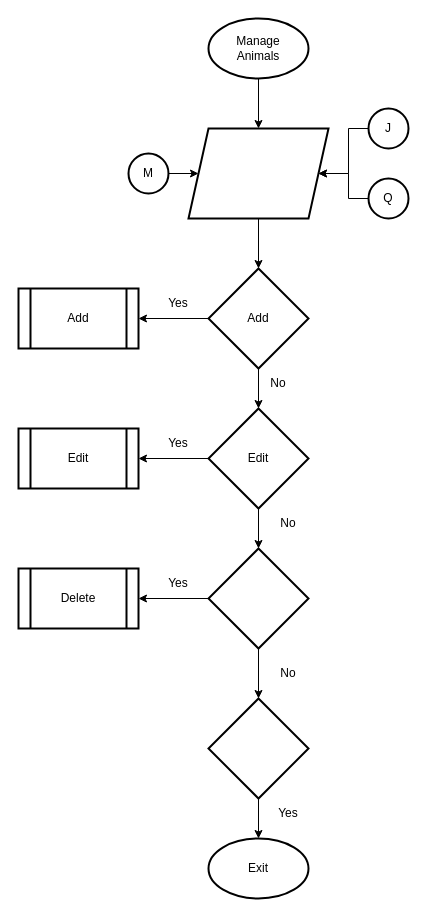
Image size: 426x916. Some labels were removed from this diagram. Each missing label, with the centre of its shape:
"Delete?" belongs at point (258, 598).
"Display 1. Add 2. Edit 3. Delete 4. Exit" belongs at point (258, 173).
"Done?" belongs at point (258, 748).
